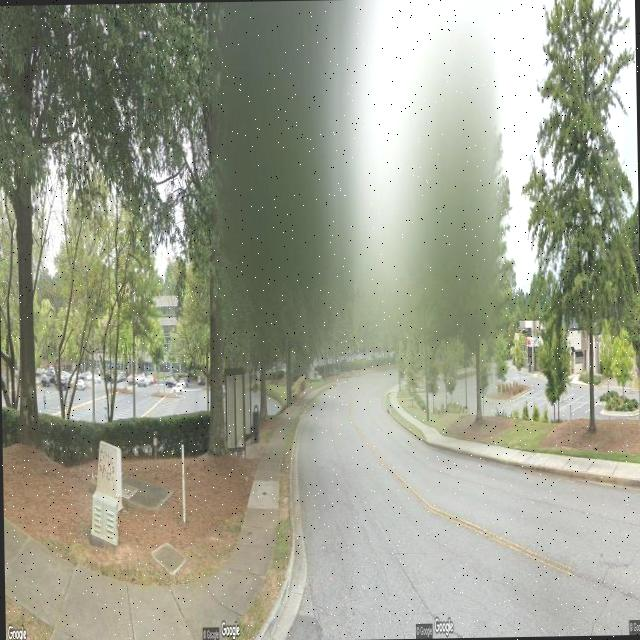shelter: (222, 355, 252, 458)
trash_can: (252, 405, 260, 440)
